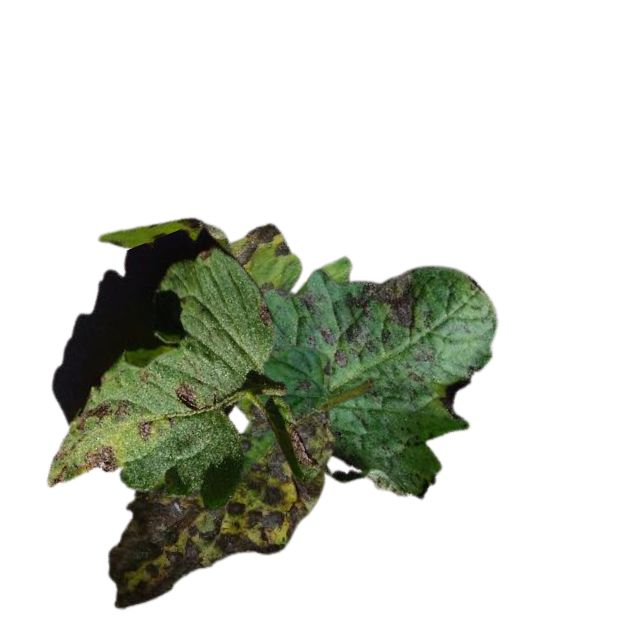Early_blight: (108, 412, 329, 608), (344, 268, 418, 339), (233, 224, 291, 268), (76, 395, 130, 427), (440, 374, 470, 421), (86, 445, 120, 472), (174, 382, 200, 409), (256, 303, 274, 326), (320, 324, 336, 344), (138, 420, 153, 441), (334, 350, 348, 368)
